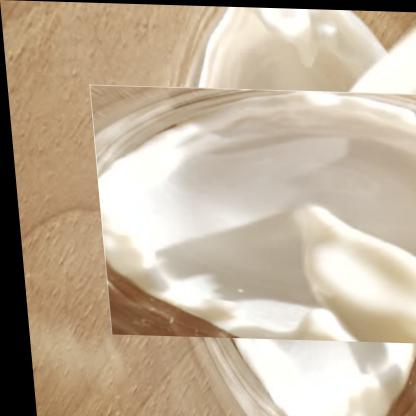milk: (124, 43, 415, 385)
